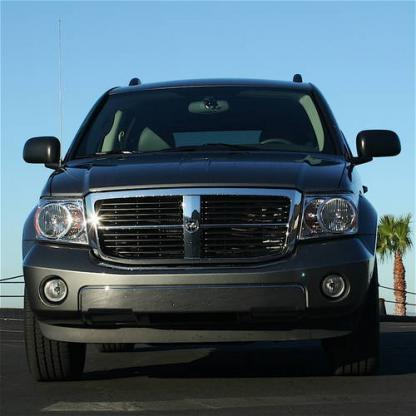Vehicle: (24, 76, 401, 378)
